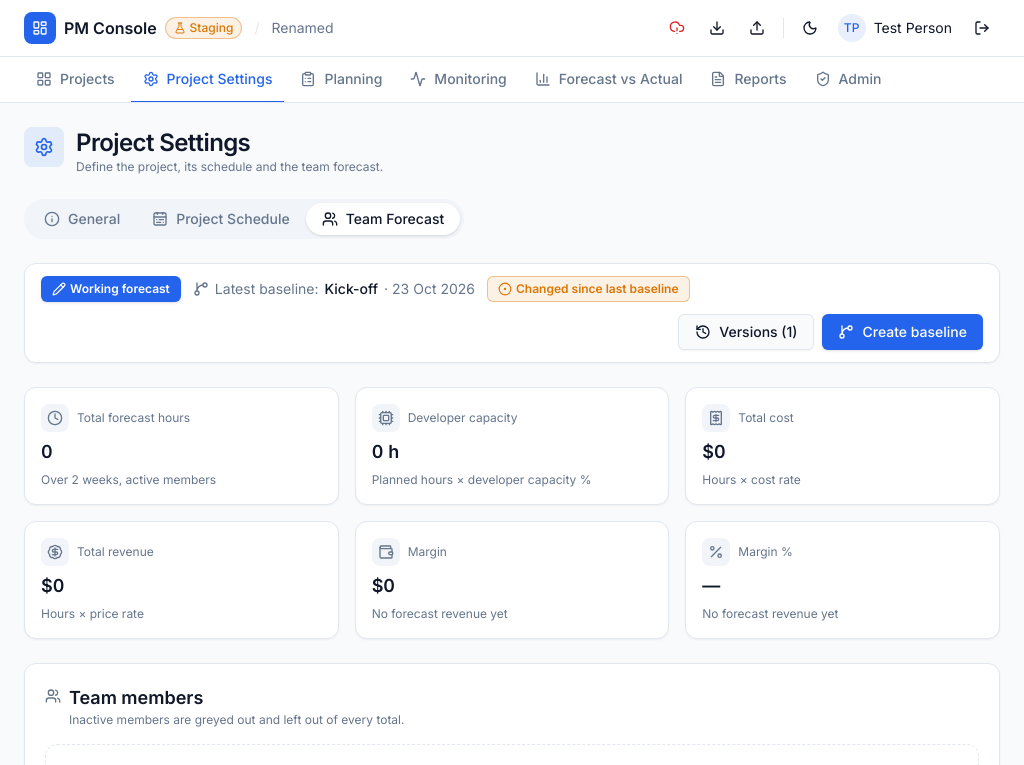
Test: Forecast baselines › restores a baseline after confirming
Click the button "Versions (1)" at (746, 332), box top-left (678, 314), bottom-right (814, 350)
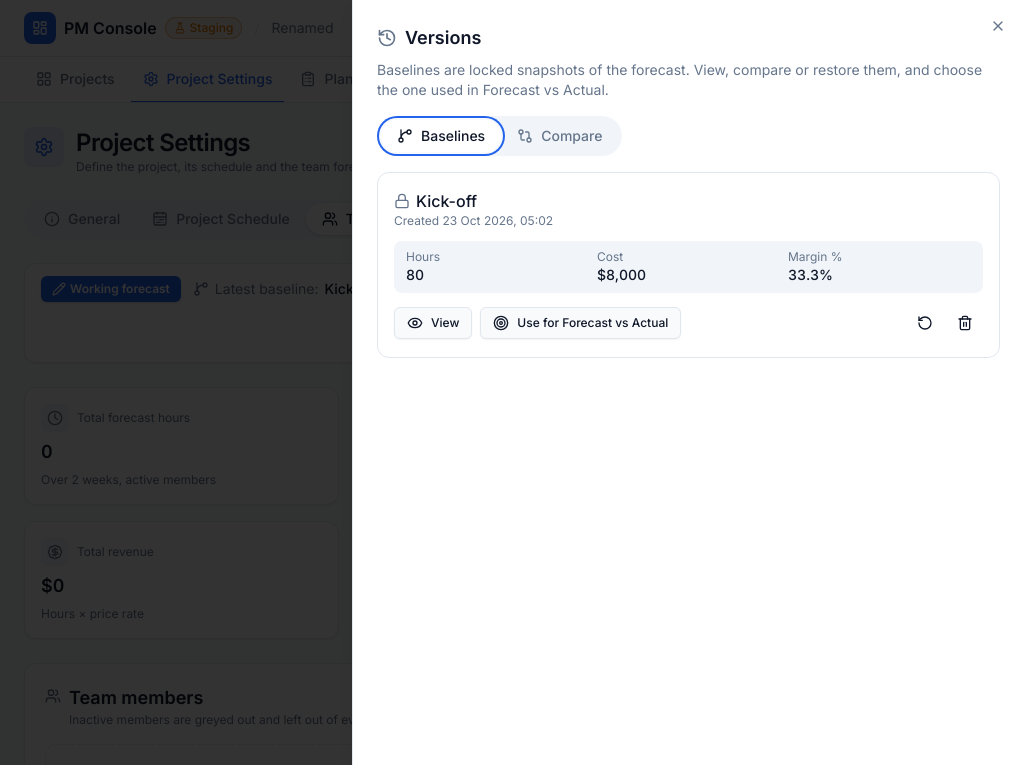
Click the button named "Restore Kick-off to working forecast" at (925, 323), box top-left (907, 305), bottom-right (943, 341)
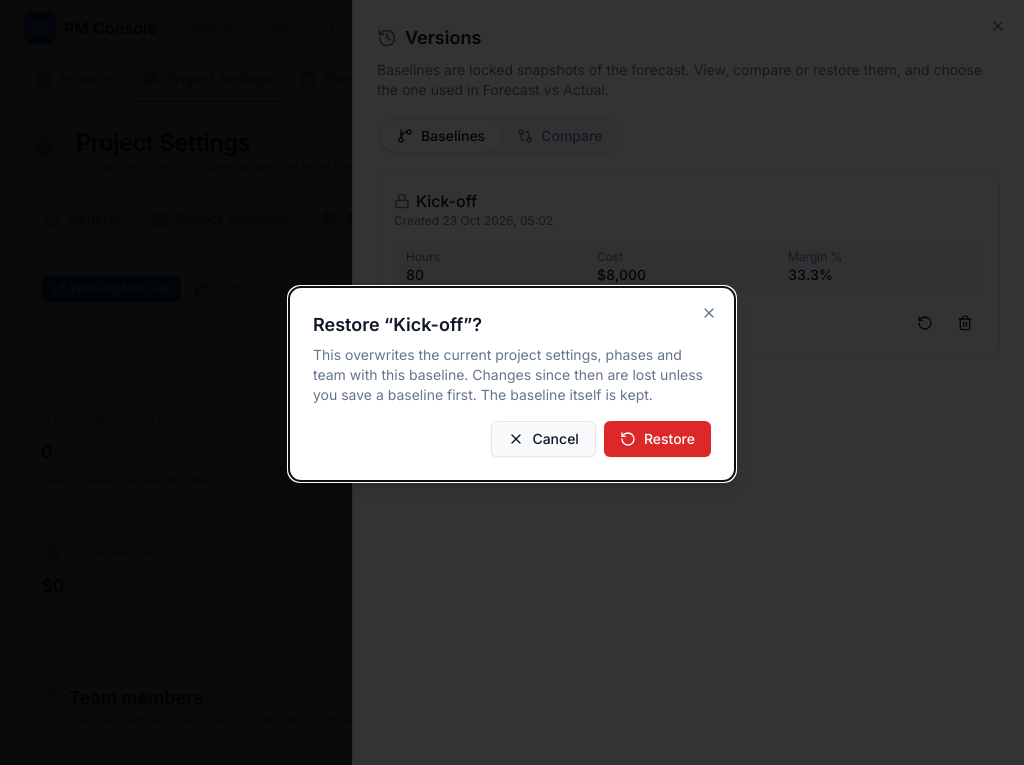
Result: the text "overwrites the current project settings, phases and team" is shown at top-left (313, 346), bottom-right (703, 403)
Click the button "Restore" at (657, 439), box top-left (604, 421), bottom-right (711, 457)
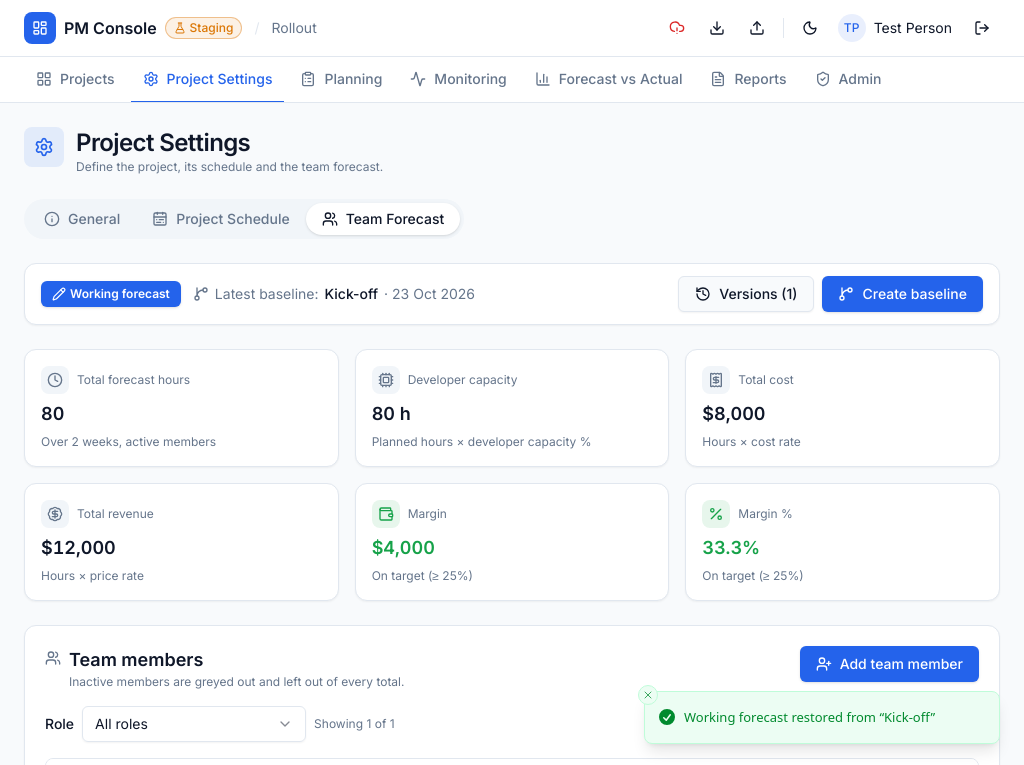
Result: the text "Rollout" is shown at top-left (272, 18), bottom-right (317, 38)
